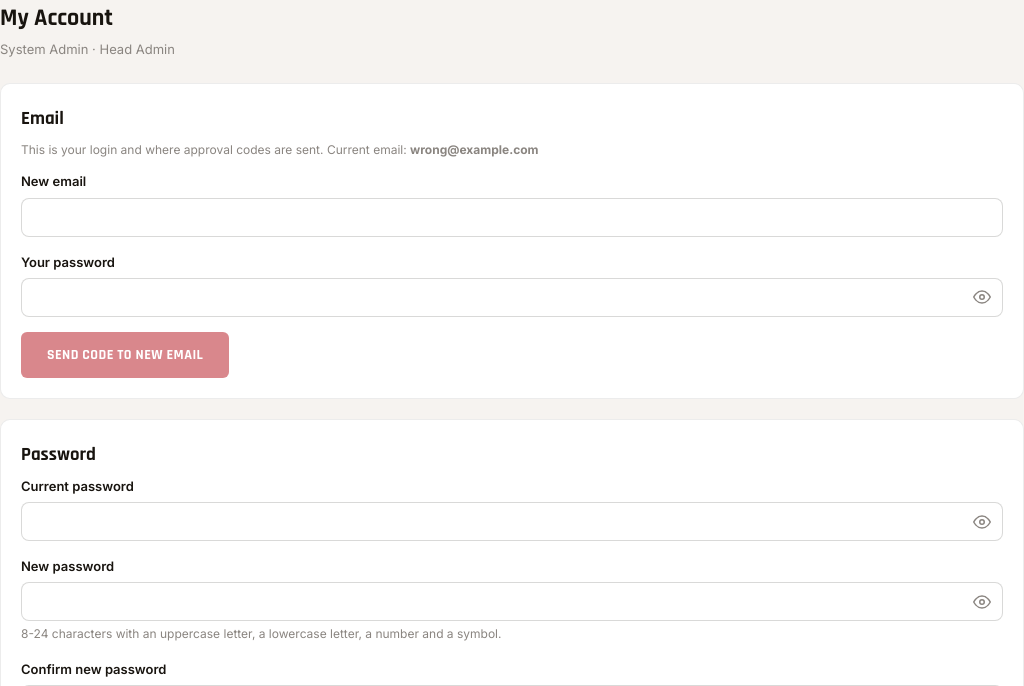
Test: my account › changes the email only after the code sent to the new address
Check: the text "wrong@example.com" is shown, box [410, 142, 538, 157]
Step 1. Type "right@example.com" into the field labelled "New email" → (512, 217), box [21, 198, 1003, 236]
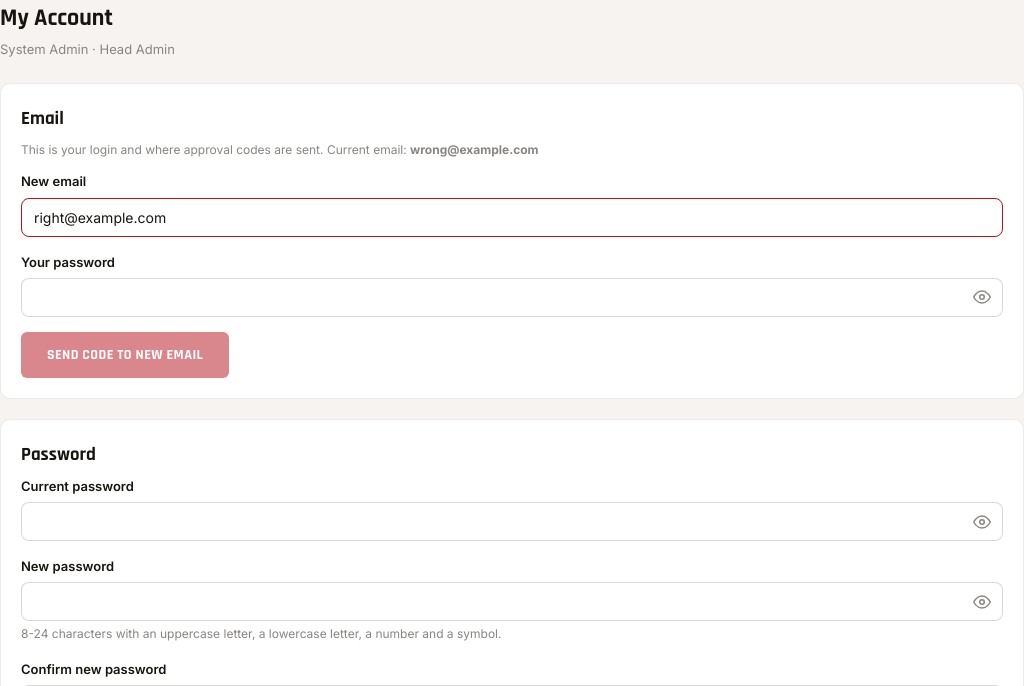
Step 2. Type "Passw0rd!x" into the password field below "Your password" → (512, 297), box [21, 278, 1003, 317]
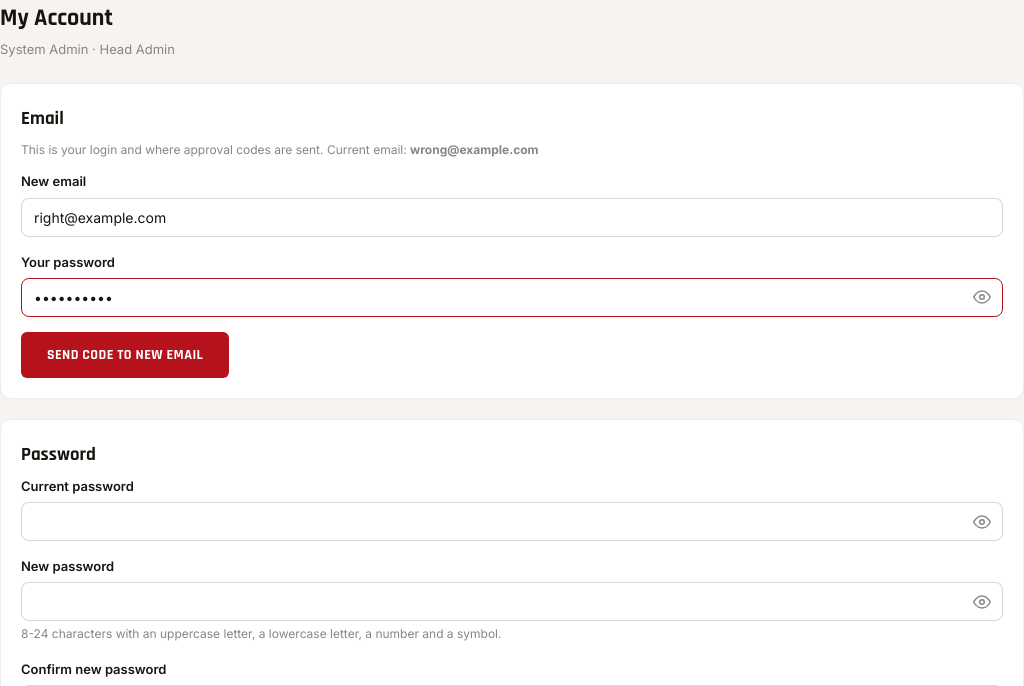
Step 3. Click the button "Send code to new email" → (125, 355), box [21, 332, 229, 378]
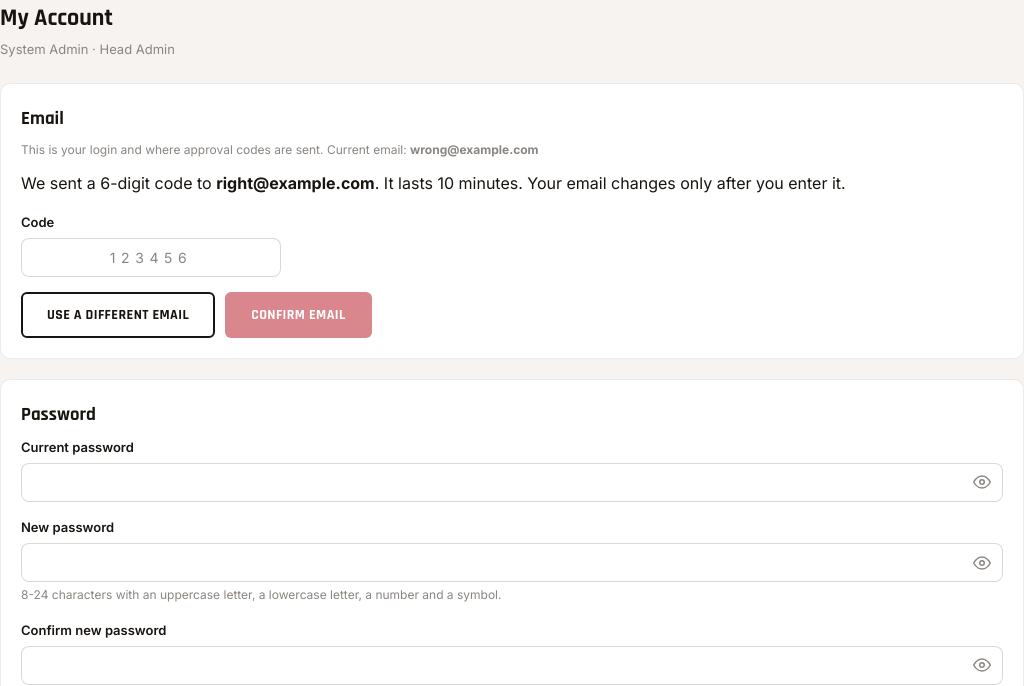
Check: the text "wrong@example.com" is shown, box [410, 142, 538, 157]
Check: the text "right@example.com" is shown, box [216, 173, 375, 193]
Step 4. Type "654321" into the field labelled "Code" → (151, 258), box [21, 238, 281, 277]
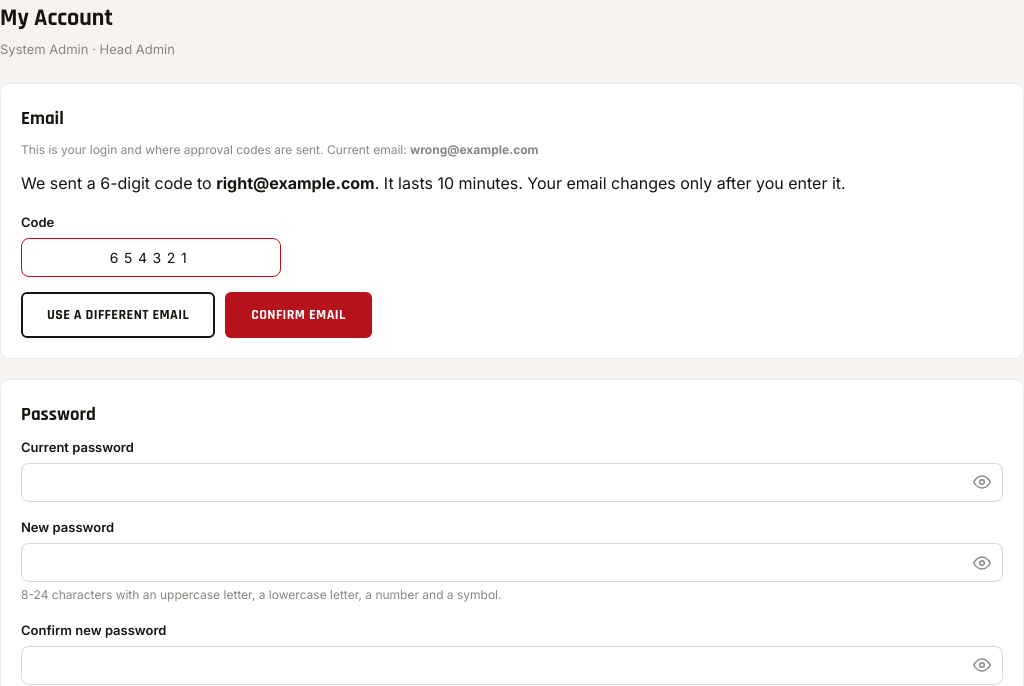
Step 5. Click the button "Confirm email" → (298, 315), box [225, 292, 372, 338]
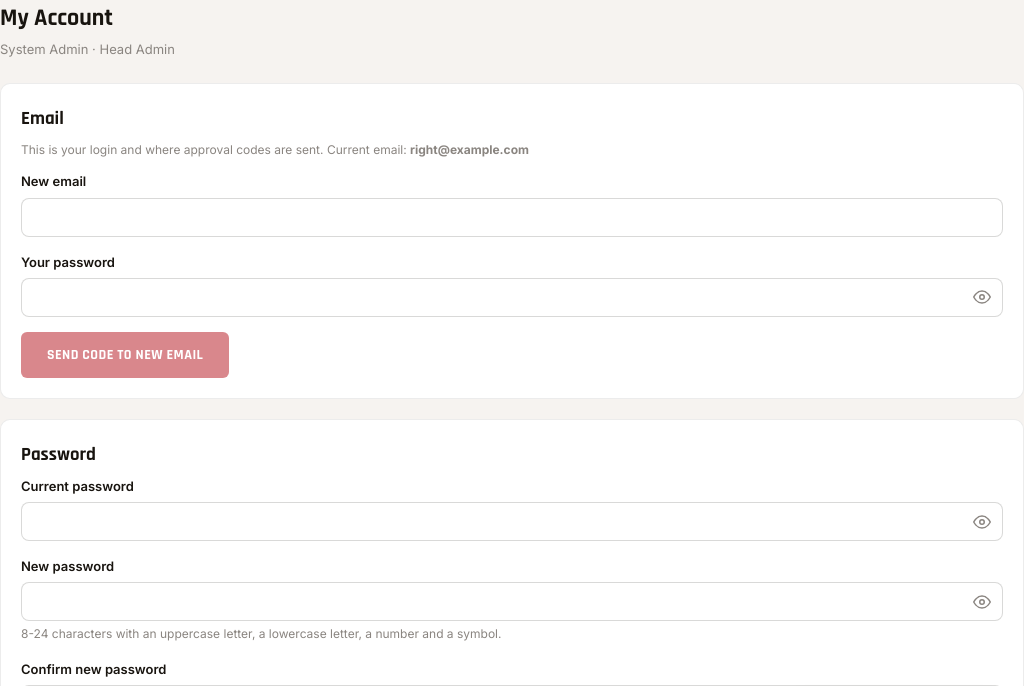
Check: the text "right@example.com" is shown, box [410, 142, 529, 157]
Check: the text "wrong@example.com" is gone
